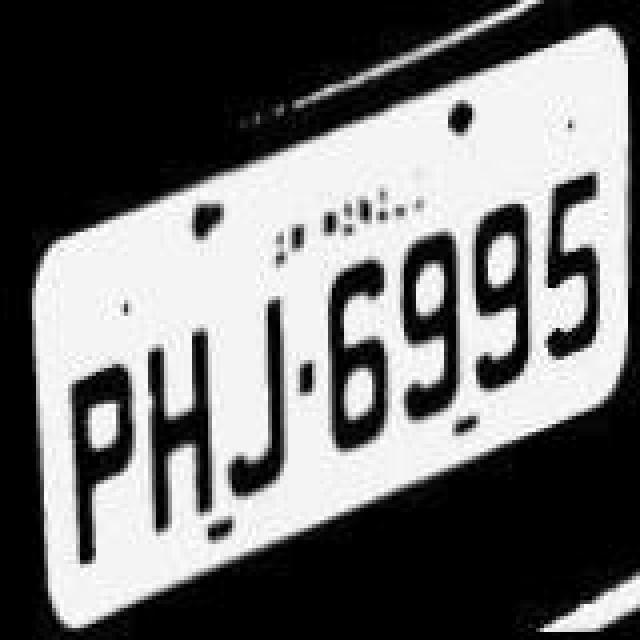5: (534, 164, 602, 380)
6: (326, 240, 394, 460)
9: (464, 190, 536, 406), (398, 222, 466, 434)
H: (140, 310, 216, 538)
J: (222, 278, 294, 506)
P: (64, 340, 140, 564)
